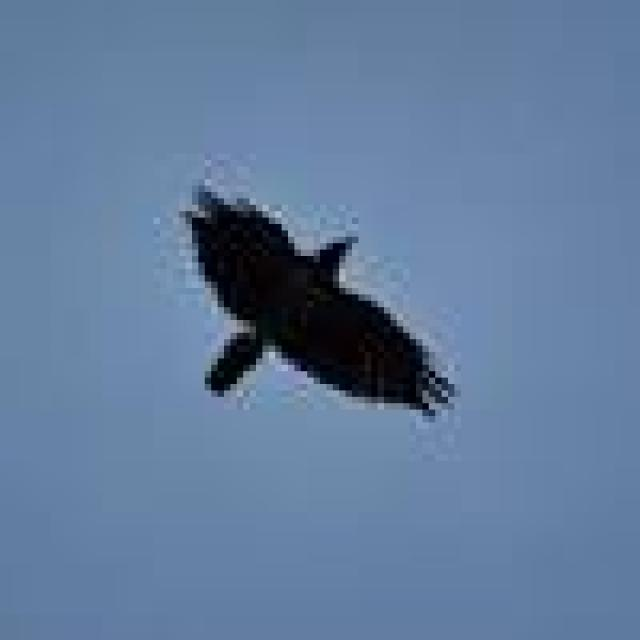bird: (146, 152, 464, 460)
